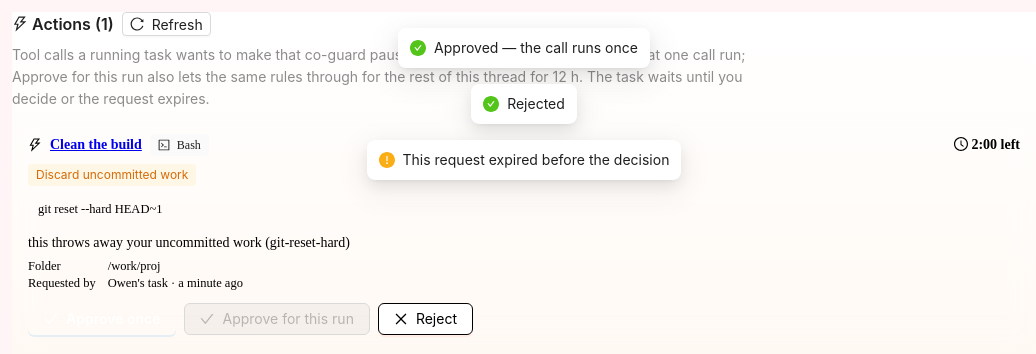
Test: ActionApprovals cards › a 409 "already approved" shows that outcome
This screenshot has width=1036, height=354.
Click the button "Approve once" at [102, 319], box [28,303,176,335]
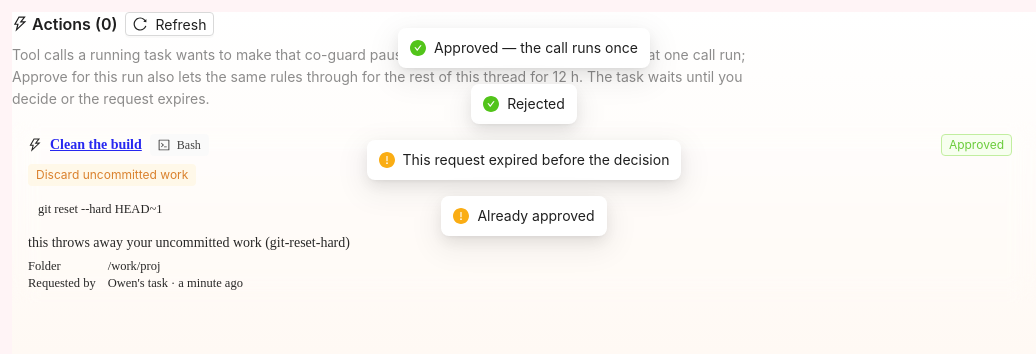
Result: the text "Approved" is shown at [941,134,1012,156]
